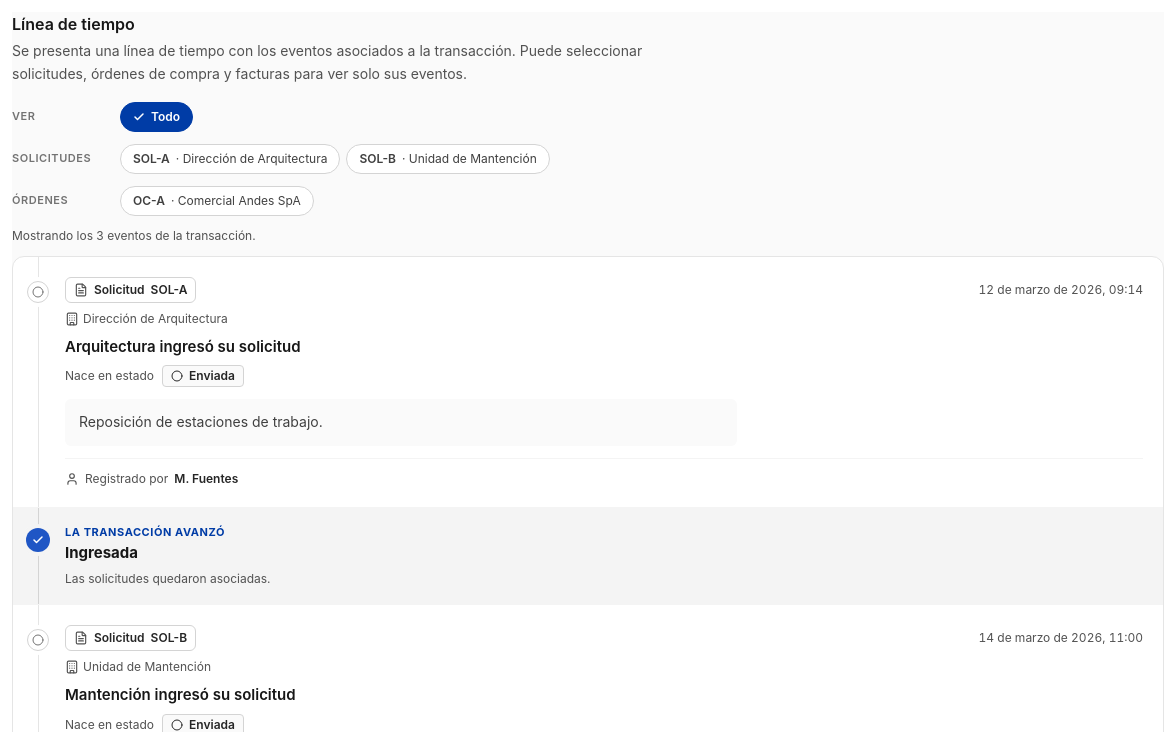
Test: LineaDeTiempo › limpia la selección al pulsar Todo
Click the button "SOL-A · Dirección de Arquitectura" at (230,158), box [120,144,340,174]
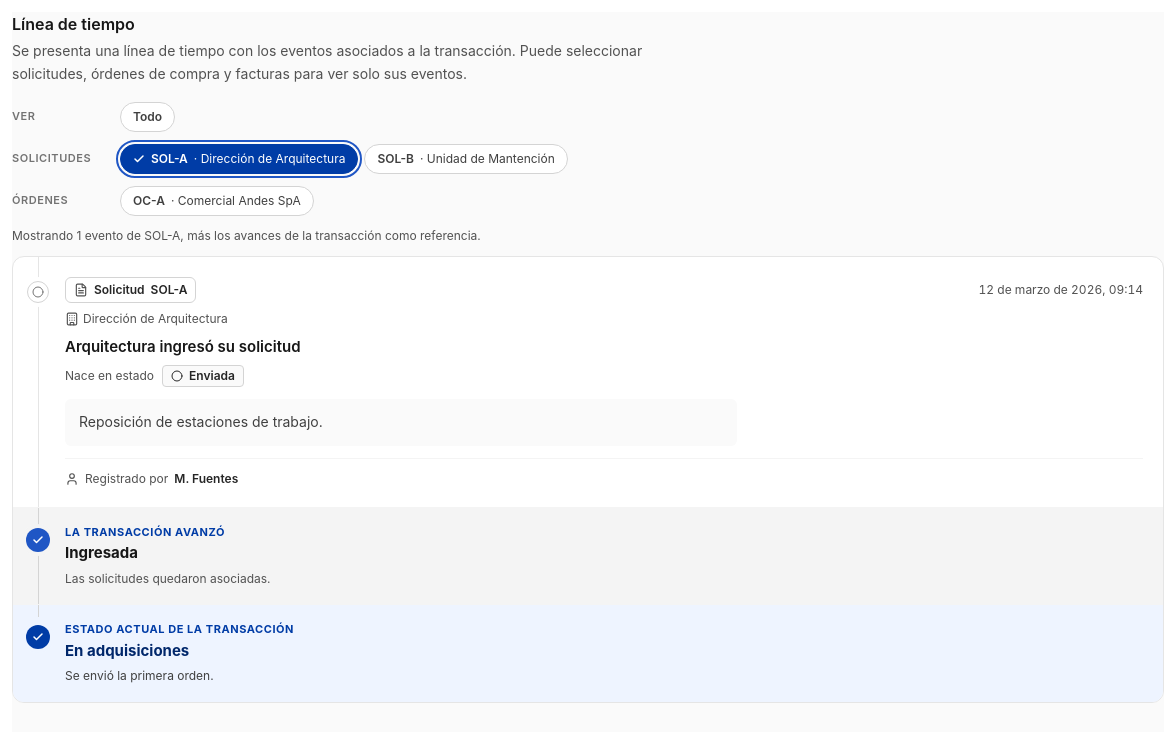
Click the button "Todo" at (148,116), box [120,102,175,132]
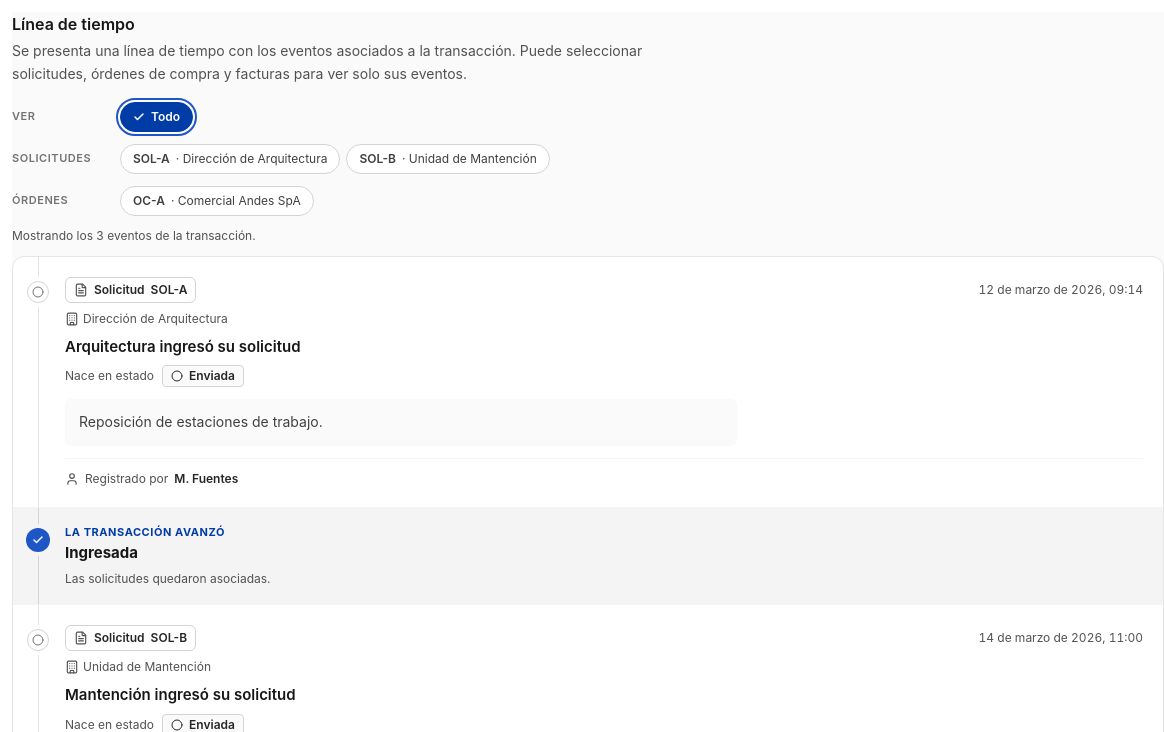
Expected: the heading "Mantención ingresó su solicitud" is shown, [65,685,296,704]
